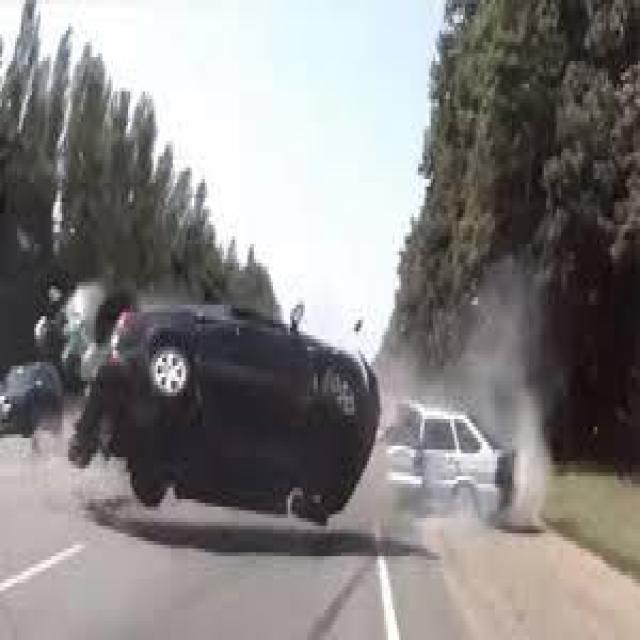severe: (68, 286, 382, 533)
